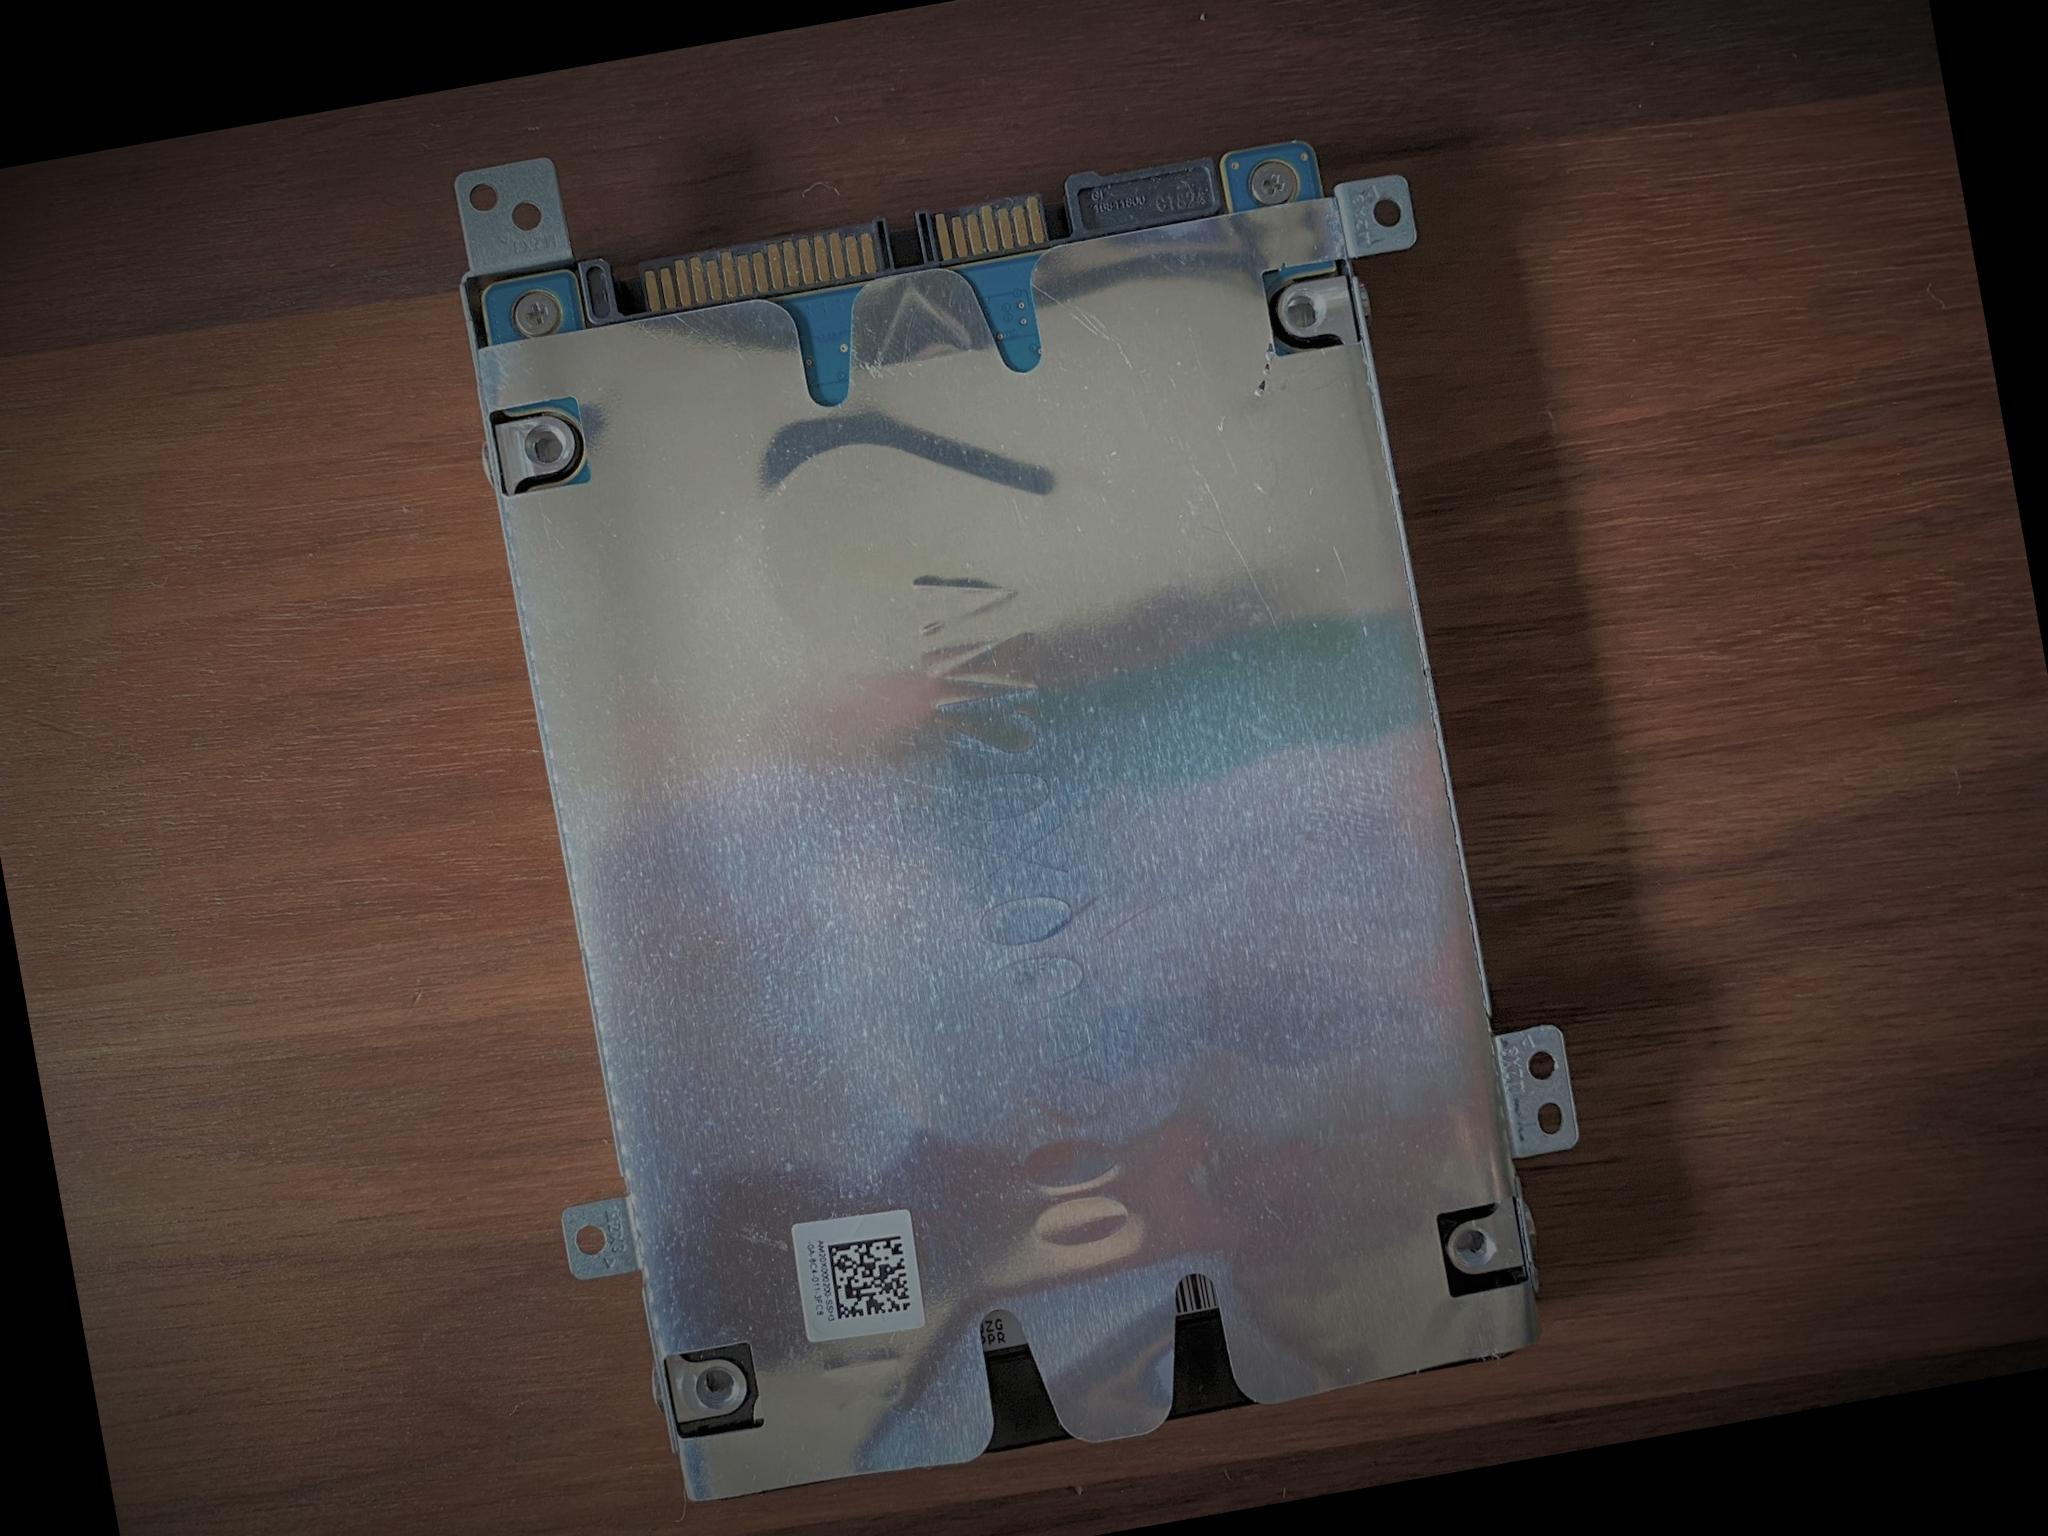PH: (1245, 157, 1301, 211), (506, 287, 564, 339)
